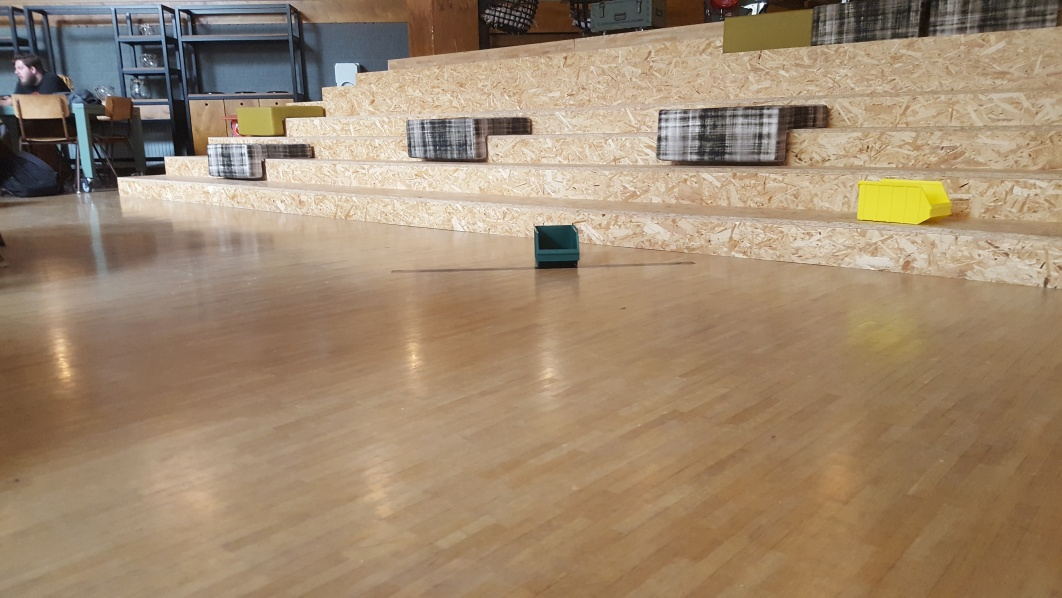tray: (856, 178, 952, 228), (527, 220, 584, 268)
